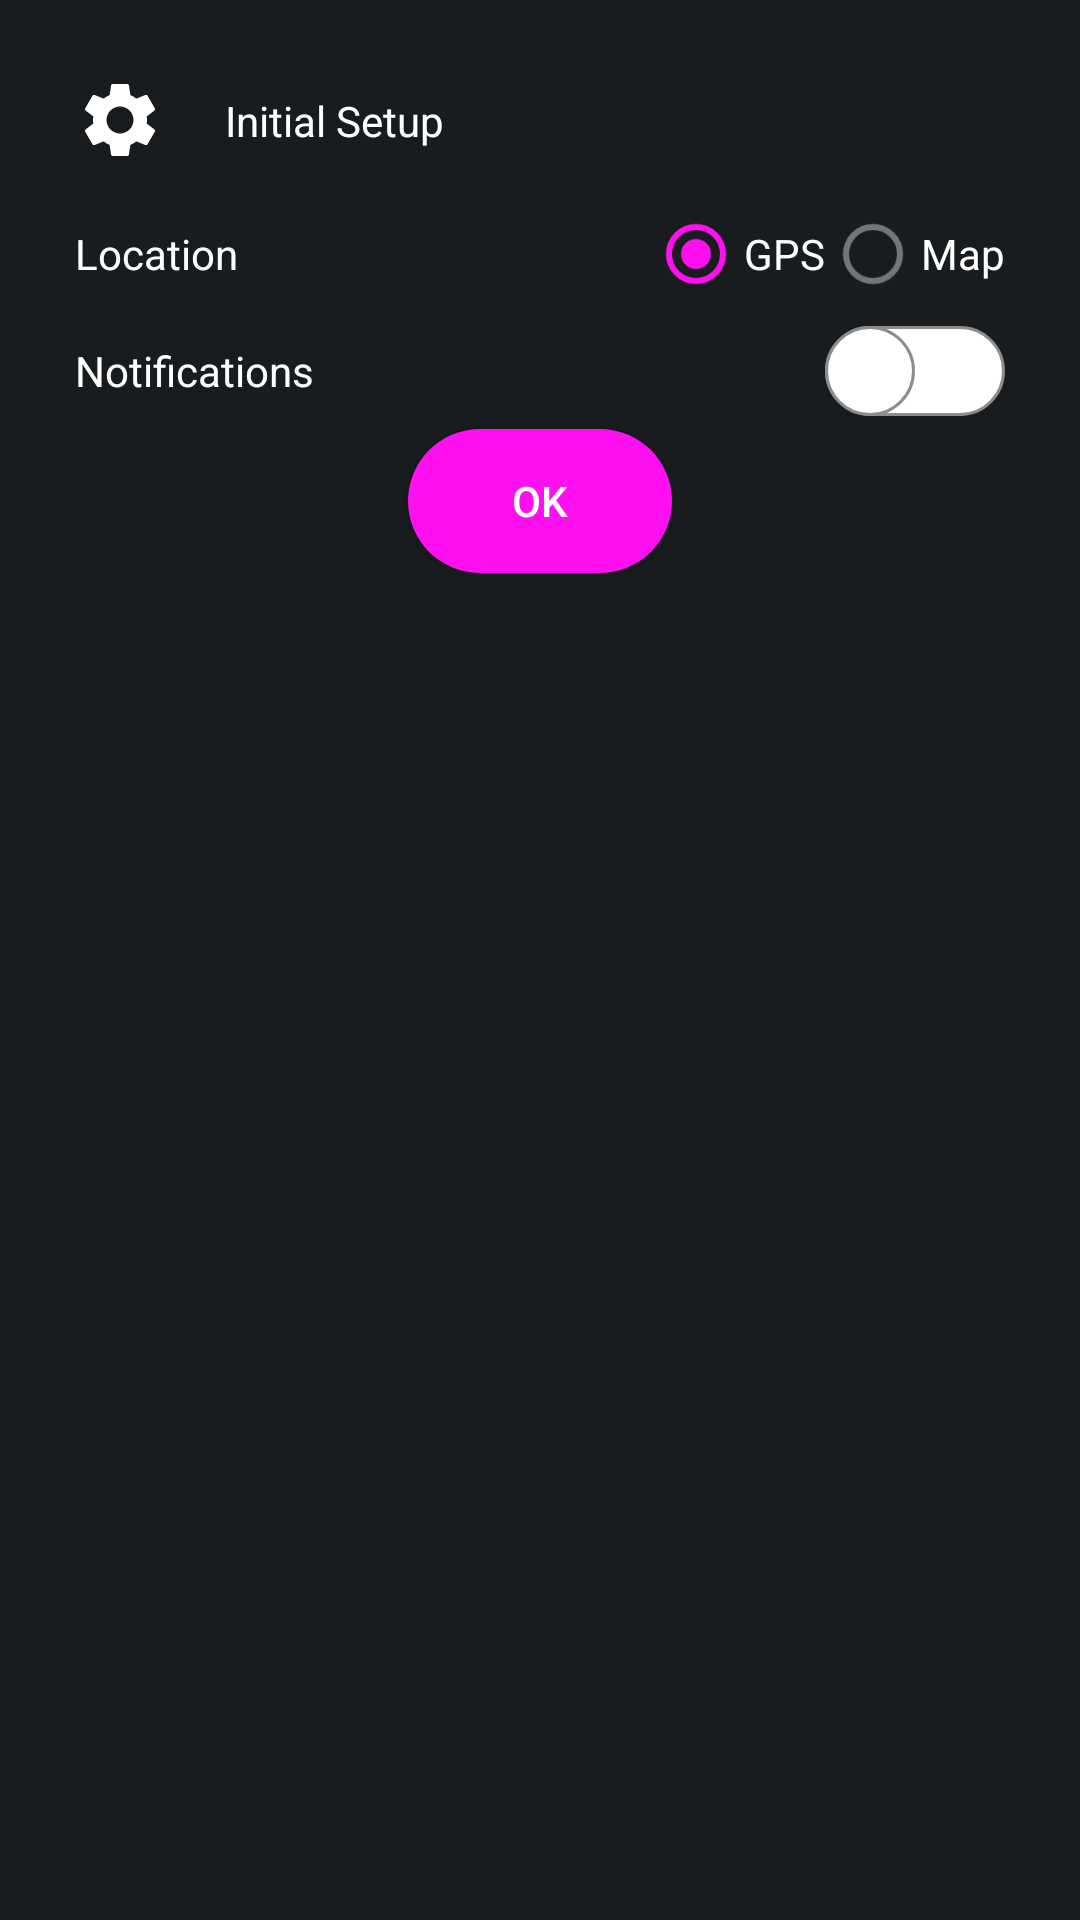

Where icons sit on this 1080x1920 app screen, as (x1, y1, x2, y2):
settings: (85, 84, 155, 156)
